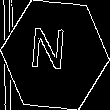N_S: (35, 28, 75, 82)
